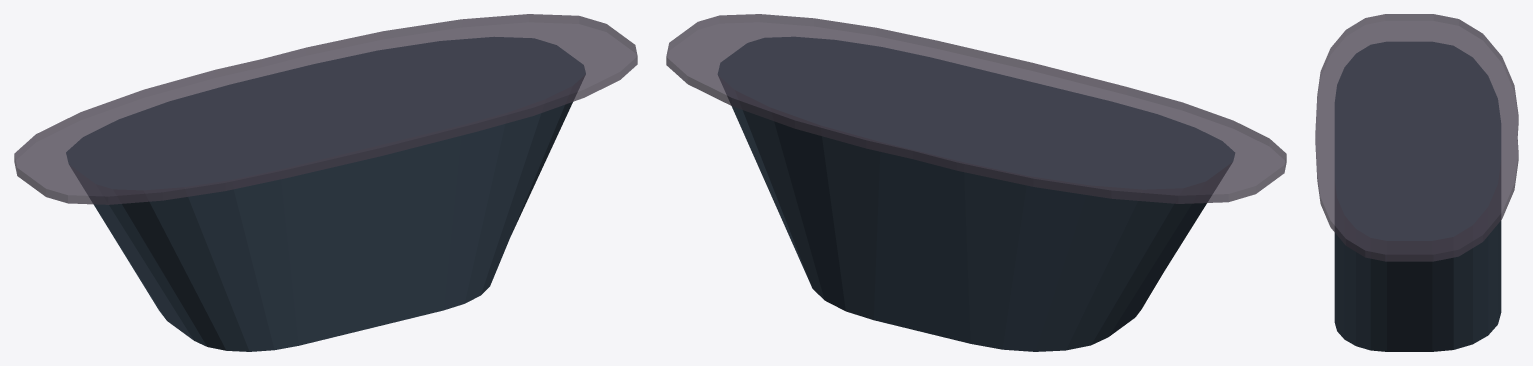
File: secTable.fbx
3 views of the same model, side by side, from view 1: azimuth 30°, elevation 25°; view 2: azimuth 150°, elevation 25°; view 3: azimuth 270°, elevation 25° (orthographic). The views are drawn at different scales.
Visible parts, largest first — view 1: Cube.004; view 2: Cube.004; view 3: Cube.004.
Part boxes in pixels (bbox=[...]): Cube.004: bbox=[14, 14, 637, 351]; Cube.004: bbox=[666, 14, 1286, 351]; Cube.004: bbox=[1315, 14, 1518, 351].
Size of the model in its own units: 683 by 209 by 244.
